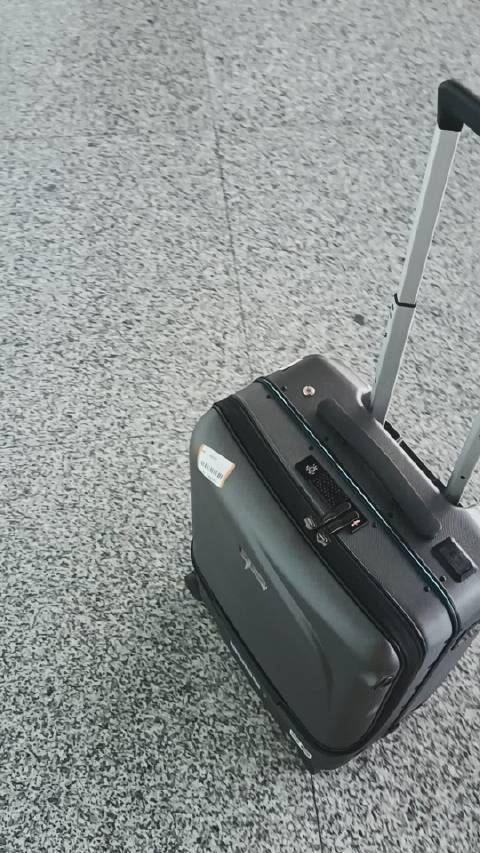box: (190, 353, 480, 774)
handle: (316, 397, 442, 542)
lock: (294, 453, 369, 535)
